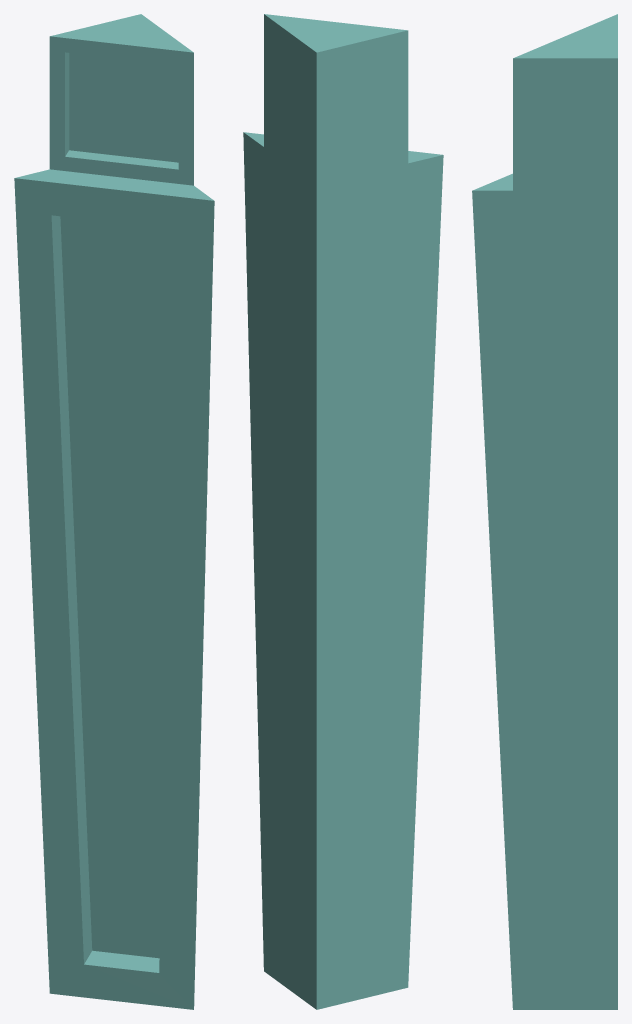
The model's file is EspacioInicialEsquinaAperturaInteriorAltoNI.gltf.
3 views of the same model, side by side, from view 1: azimuth 30°, elevation 25°; view 2: azimuth 210°, elevation 25°; view 3: azimuth 270°, elevation 25° (orthographic).
Visible parts, largest first — view 1: Modulo inicio.9; view 2: Modulo inicio.9; view 3: Modulo inicio.9.
Part boxes in pixels (left/top/right/bottom): Modulo inicio.9: left=14, top=14, right=214, bottom=1009; Modulo inicio.9: left=243, top=14, right=443, bottom=1009; Modulo inicio.9: left=472, top=14, right=617, bottom=1009.
Size of the model in its own units: 0.2774 by 2 by 0.2778.
